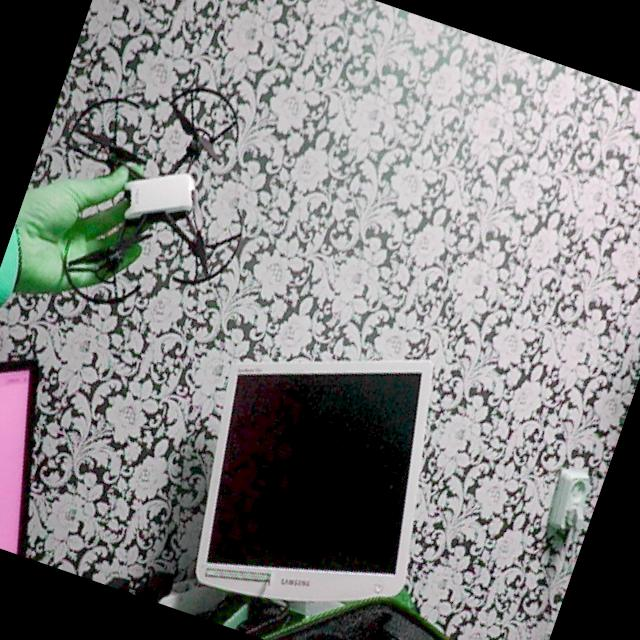drone: (2, 41, 302, 383)
